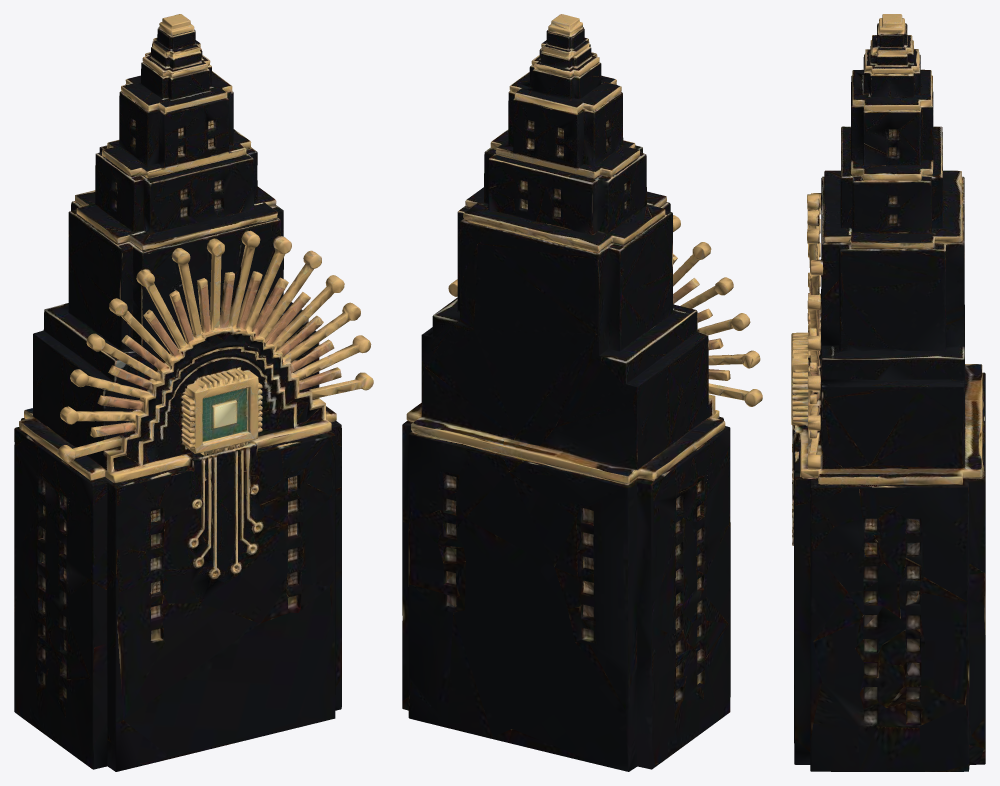
Rendered from sun-tower.glb.
The picture shows the model from 3 angles, left to right: view 1: azimuth 30°, elevation 25°; view 2: azimuth 150°, elevation 25°; view 3: azimuth 270°, elevation 25°; orthographic projection.
Bounding box in the file's own units: 0.8947 × 1.9 × 0.4837.
Materials: 1 (1 with a texture image).
